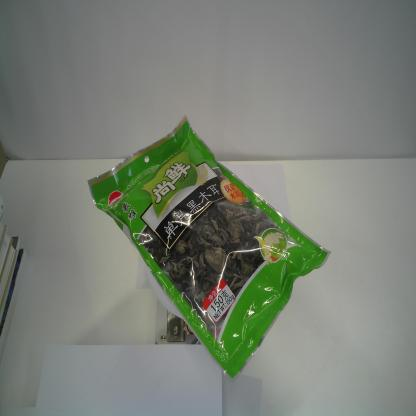Dried Food: (86, 111, 333, 386)
